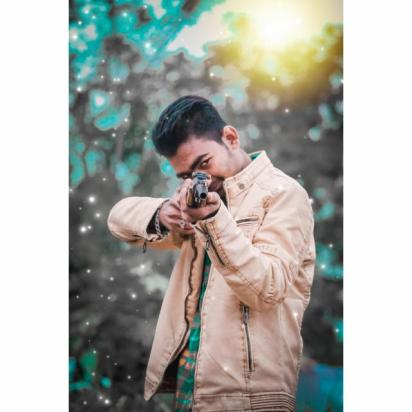Gun: (185, 171, 212, 209)
